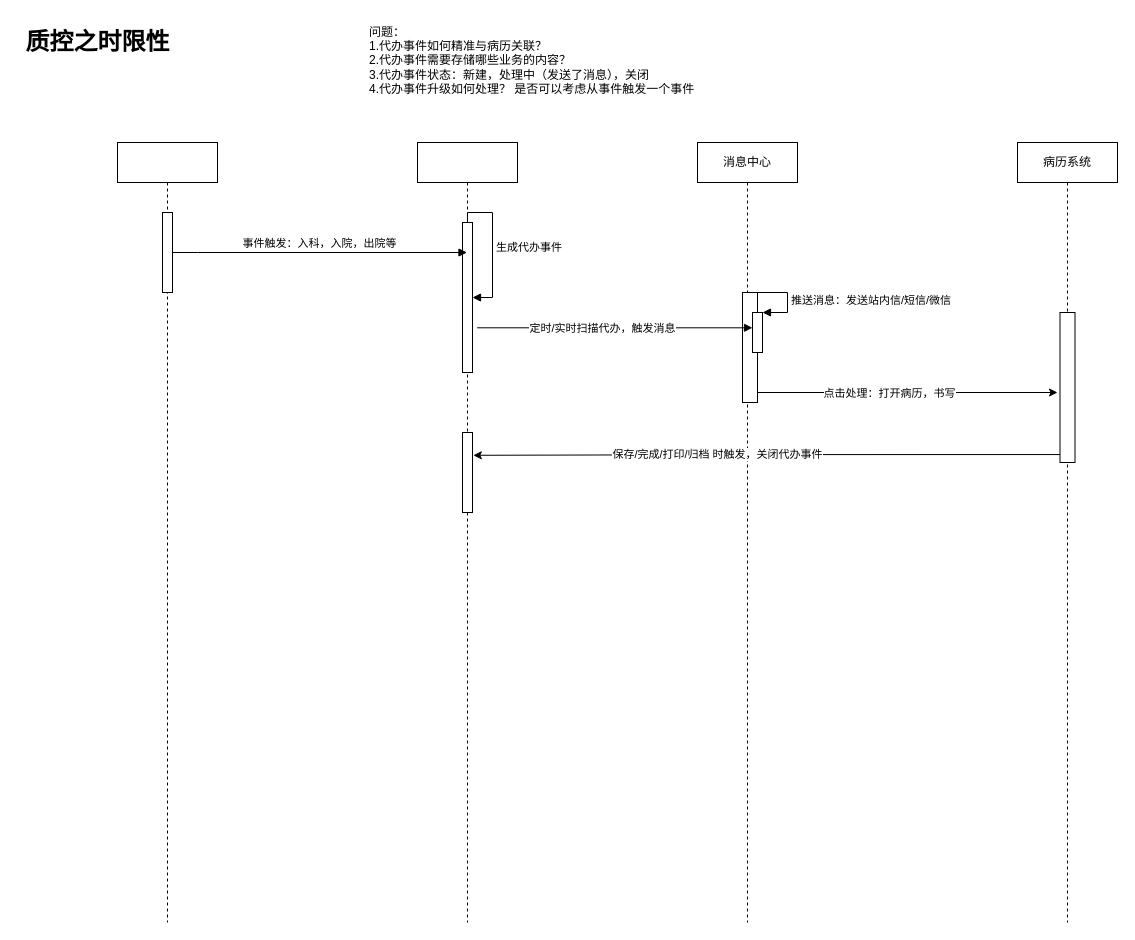
This 1135x940 diagram has some shape labels left out. The shapes that lost their labels are listed below. From the top down, each one's box as (x1, y1, x2, y2) in pixels, then its label:
(116, 142, 218, 922): 业务系统
(416, 142, 518, 922): 质控系统
